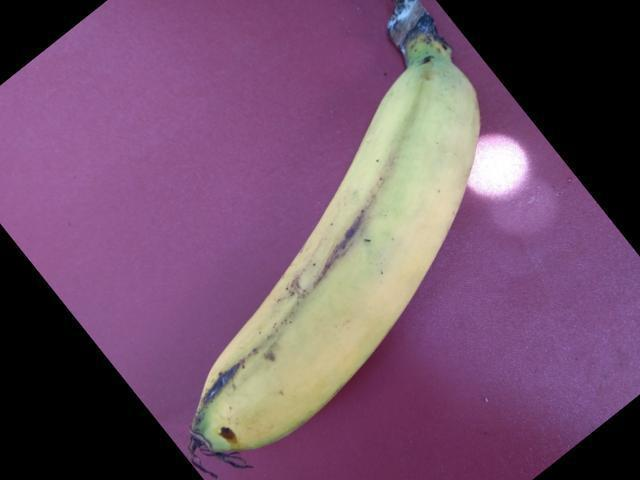ripe: (173, 55, 496, 474)
